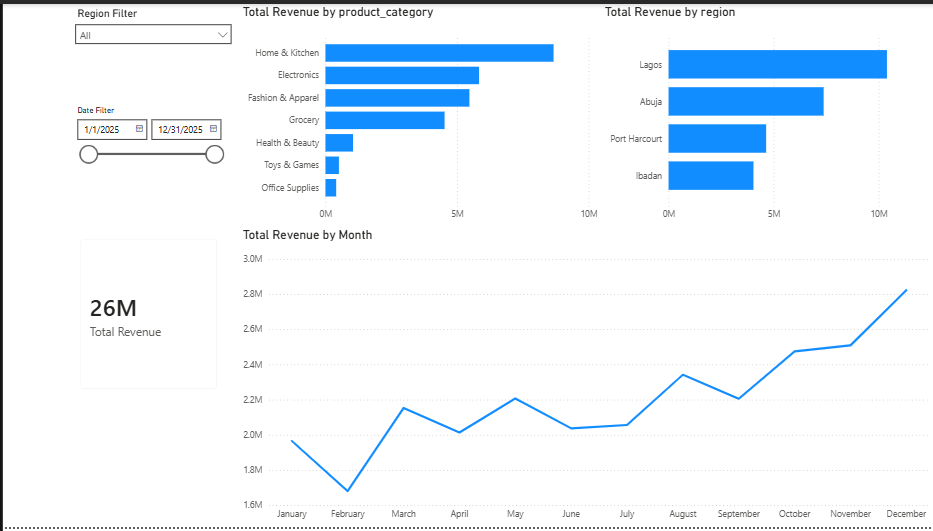

Layout of this report page (visuals, bound fields, positions):
{"tool":"powerbi","page":{"name":"Page 1","canvas":[1280,720],"ordinal":0},"visuals":[{"type":"cardVisual","fields":{"Data":["public CLEANED DATA.Total Revenue"]},"box":[89.5,306.9,223,240.9],"z":0},{"type":"clusteredBarChart","fields":{"Y":["public CLEANED DATA.Total Revenue"],"Category":["public CLEANED DATA.region"]},"box":[823.1,0,456.9,306.9],"z":1000},{"type":"clusteredBarChart","fields":{"Y":["public CLEANED DATA.Total Revenue"],"Category":["public CLEANED DATA.product_category"]},"box":[324.8,0,498.2,306.9],"z":2000},{"type":"lineChart","fields":{"Category":["Date.Month"],"Y":["public CLEANED DATA.Total Revenue"]},"box":[324.8,306.9,955.2,412.9],"z":3000},{"type":"slicer","fields":{"Values":["public CLEANED DATA.region"]},"box":[89.5,0,235.4,75.7],"z":4000},{"type":"slicer","fields":{"Values":["Date.Date"]},"box":[89.5,134.9,223,108.7],"z":5000}]}

Visuals, with their boxes in screenshot pixels (x1, y1, x2, y2), scaled from the page's 1280x720 canvas onto the 933x531 screenshot:
cardVisual - public CLEANED DATA.Total Revenue: (65,226,228,404)
clusteredBarChart - public CLEANED DATA.Total Revenue x public CLEANED DATA.region: (600,0,932,226)
clusteredBarChart - public CLEANED DATA.Total Revenue x public CLEANED DATA.product_category: (237,0,600,226)
lineChart - Date.Month x public CLEANED DATA.Total Revenue: (237,226,932,530)
slicer - public CLEANED DATA.region: (65,0,237,56)
slicer - Date.Date: (65,99,228,180)
